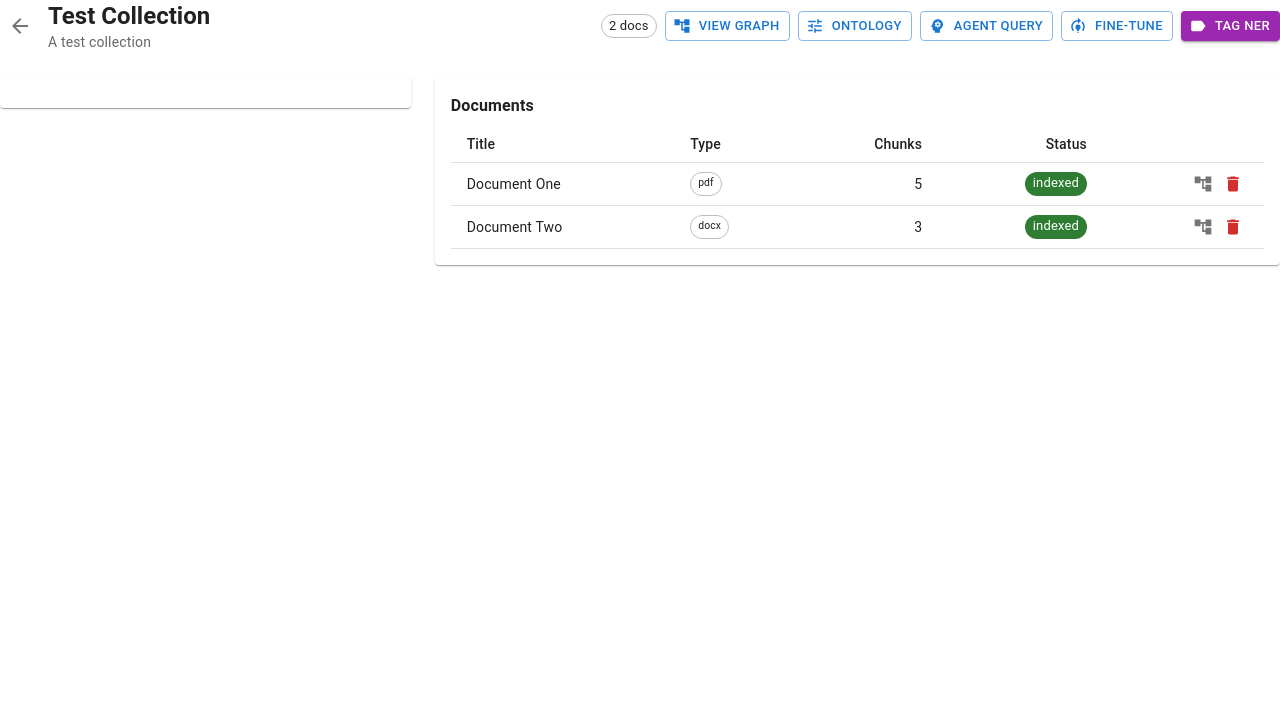
Test case: Collection › shows confirmation dialog before document deletion
The width and height of the screenshot is (1280, 720).
Expected: the text "Document One" is shown, [467,176,561,192]
Click the button named "delete document" in the row of "Document One".
click(1233, 184)  # box [1218,169,1248,199]
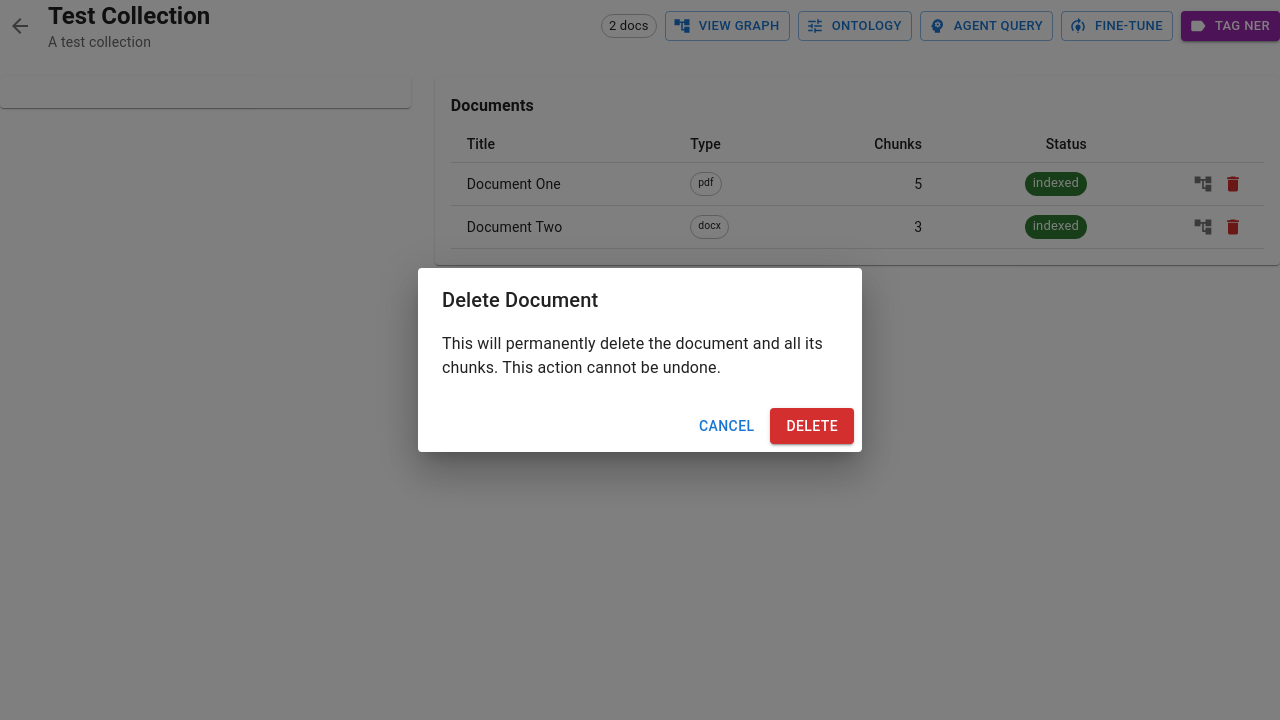
Now the heading "Delete Document" is shown, box [442,288,598,312]
Now the text "permanently delete the document" is shown, box [442,334,823,377]
